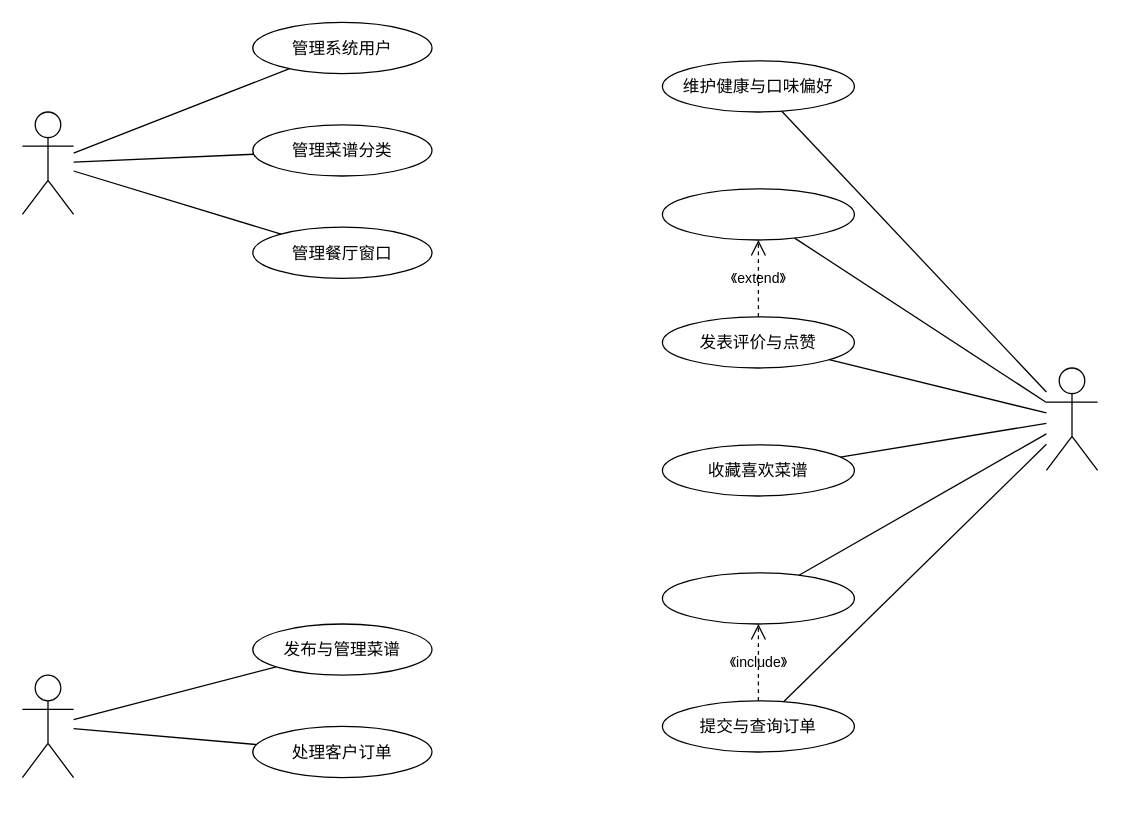
Image size: 1125x827. Some labels were removed from this diagram. Here are the shapes that lost their labels. From the top down, the centre of each, then its label:
At point (47, 162): "管理员".
At point (757, 214): "浏览与检索菜谱".
At point (1071, 418): "普通用户".
At point (757, 598): "管理购物车".
At point (47, 726): "商家".
